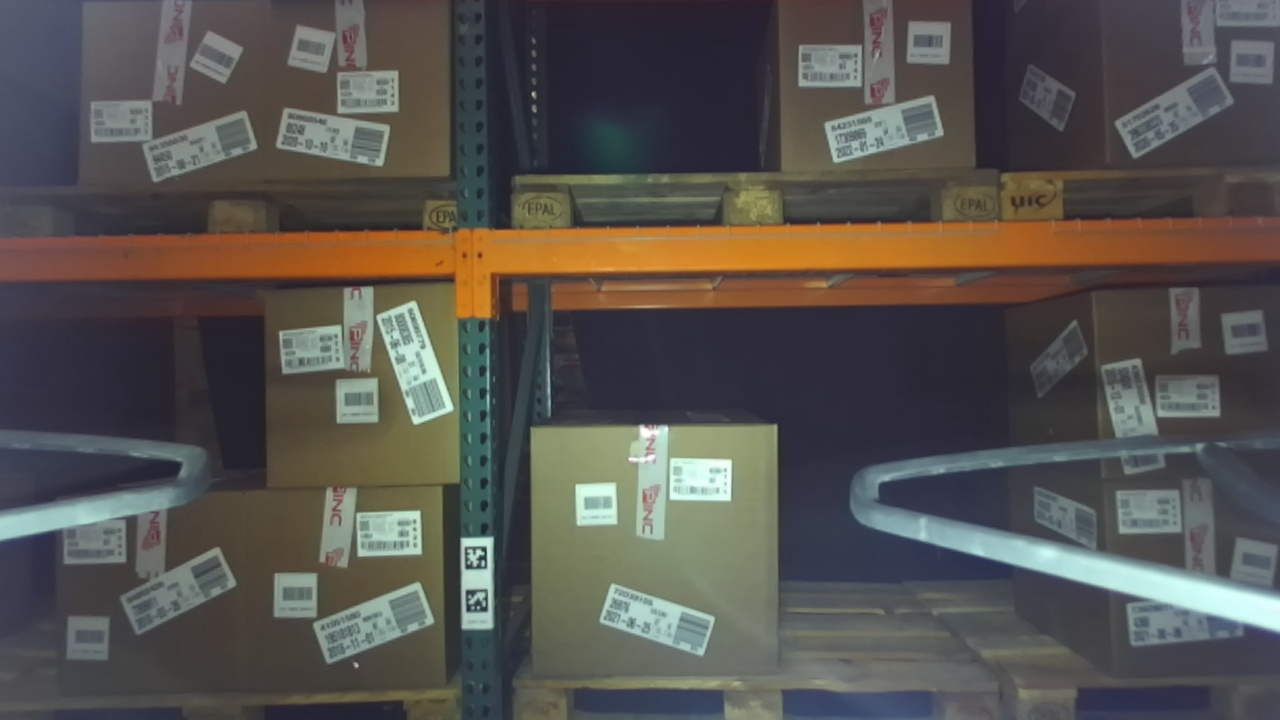box: (514, 412, 802, 698), (41, 469, 272, 716), (240, 271, 472, 507), (229, 475, 457, 711), (56, 1, 278, 213), (1082, 465, 1280, 694), (1063, 272, 1278, 477), (752, 4, 981, 192), (255, 1, 462, 198), (1077, 4, 1280, 190)
